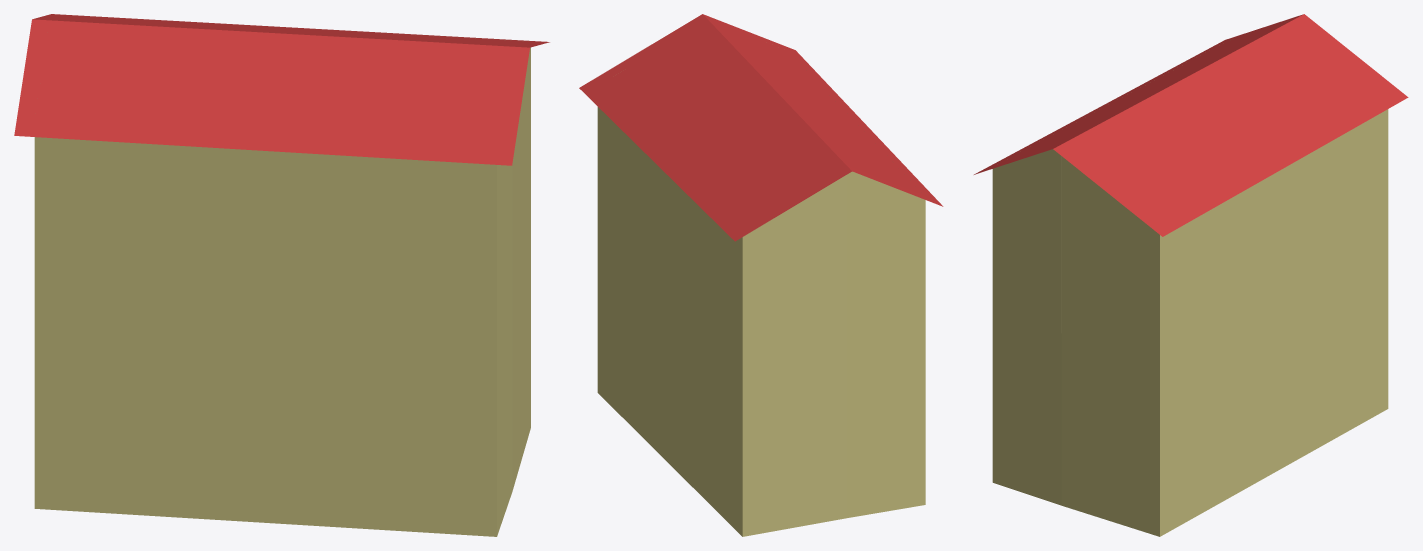
3 renders of one model, left to right at view 1: azimuth 30°, elevation 25°; view 2: azimuth 150°, elevation 25°; view 3: azimuth 270°, elevation 25°, orthographic. The views are drawn at different scales.
Parts seen in each view (by area): view 1: group_5, group_3, group_4; view 2: group_5, group_3, group_4; view 3: group_5, group_3, group_4.
Part boxes in pixels (box(x1,y1,x2,y2)): group_5: box(34, 36, 530, 536); group_3: box(33, 14, 529, 147); group_4: box(14, 15, 549, 165); group_5: box(597, 107, 925, 536); group_3: box(598, 14, 924, 241); group_4: box(579, 14, 943, 239); group_5: box(992, 109, 1388, 536); group_3: box(993, 15, 1408, 222); group_4: box(974, 14, 1405, 236).
Bounding box in the file's own units: 8.05 × 7.52 × 6.88.
